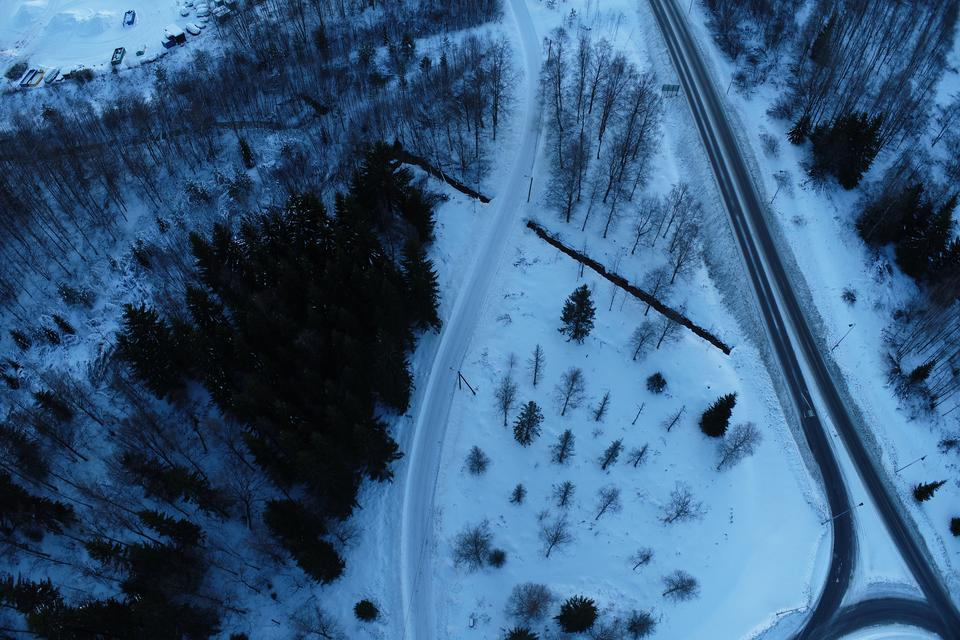roundabout: (775, 555, 960, 640)
